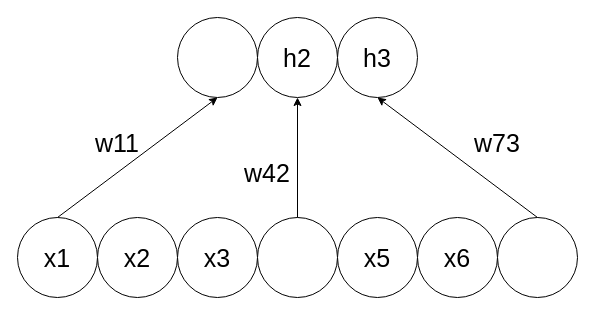
The diagram is 595 pixels wide and 315 high, and some of its shapes have lost their labels. The box of each missing label's shape, as (x1, y1, x2, y2) in pixels:
h1: (176, 16, 258, 98)
x4: (256, 216, 338, 298)
x7: (496, 216, 578, 298)
